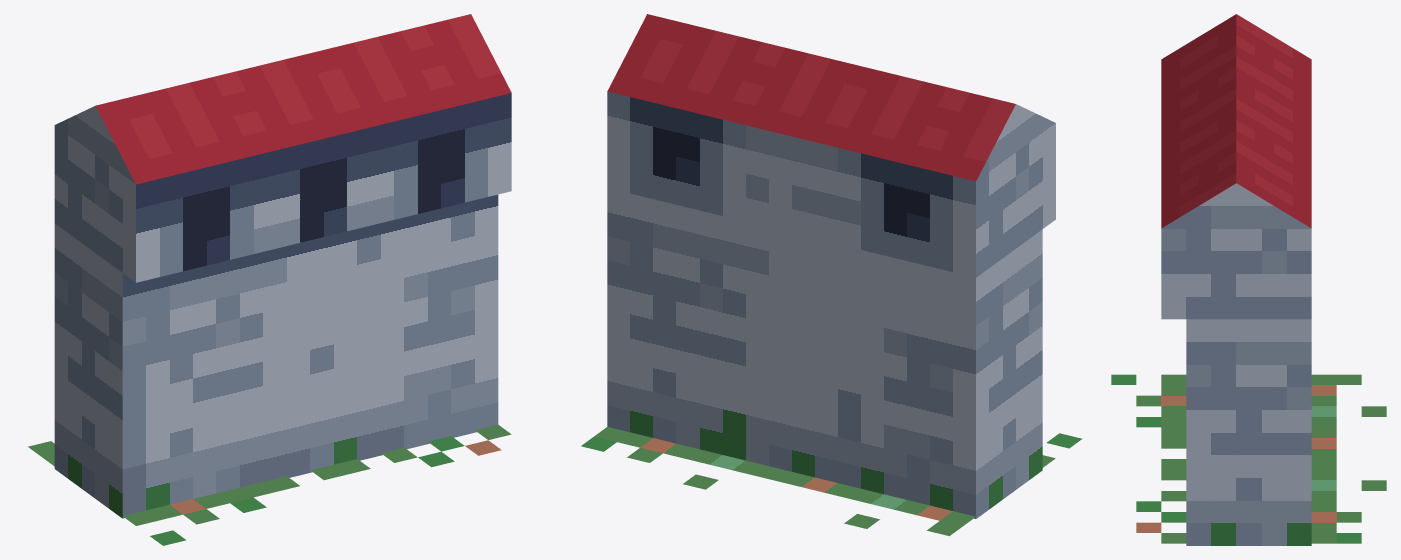
Rendered from tower_wall.gltf.
3 renders of one model, left to right at view 1: azimuth 30°, elevation 25°; view 2: azimuth 150°, elevation 25°; view 3: azimuth 270°, elevation 25°, orthographic. The views are drawn at different scales.
Visible parts, largest first — view 1: cube_selection; view 2: cube_selection; view 3: cube_selection.
Part boxes in pixels (bbox=[...]): cube_selection: bbox=[28, 14, 511, 545]; cube_selection: bbox=[581, 14, 1082, 536]; cube_selection: bbox=[1111, 14, 1386, 545].
Size of the model in its own units: 1 by 1 by 0.6875.
Materials: 1 (1 with a texture image).
